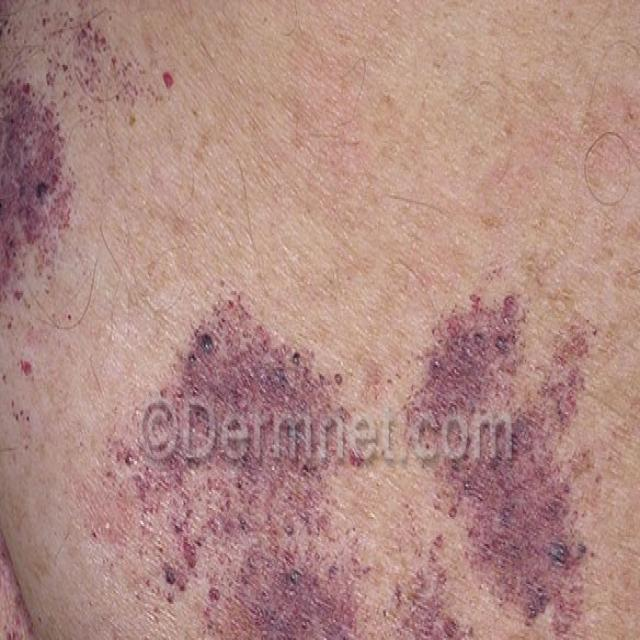Vascular Tumors: (123, 255, 610, 640), (0, 21, 72, 367)
